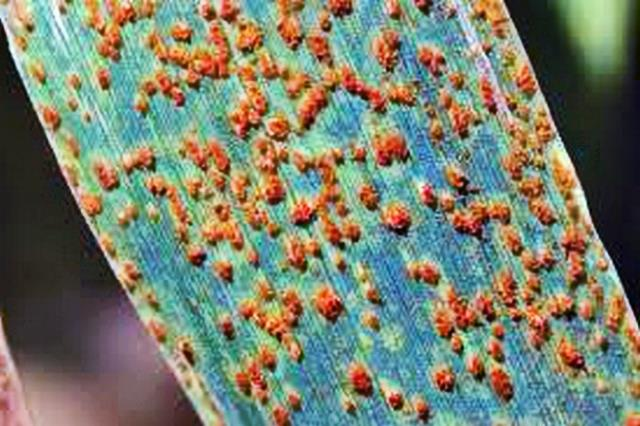Leaf Rust: (89, 26, 617, 409)
